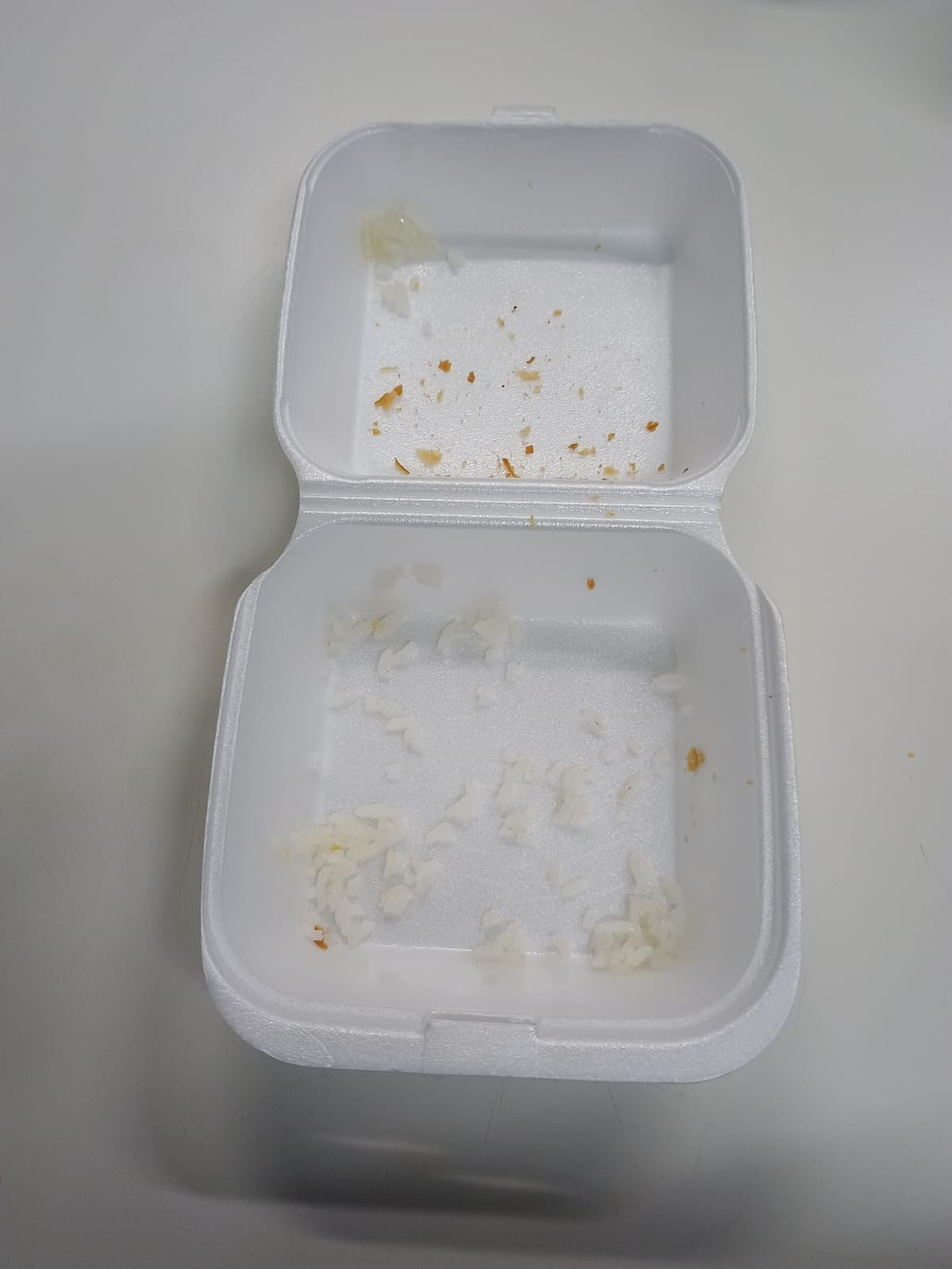Ordinario: (198, 110, 804, 1080)
